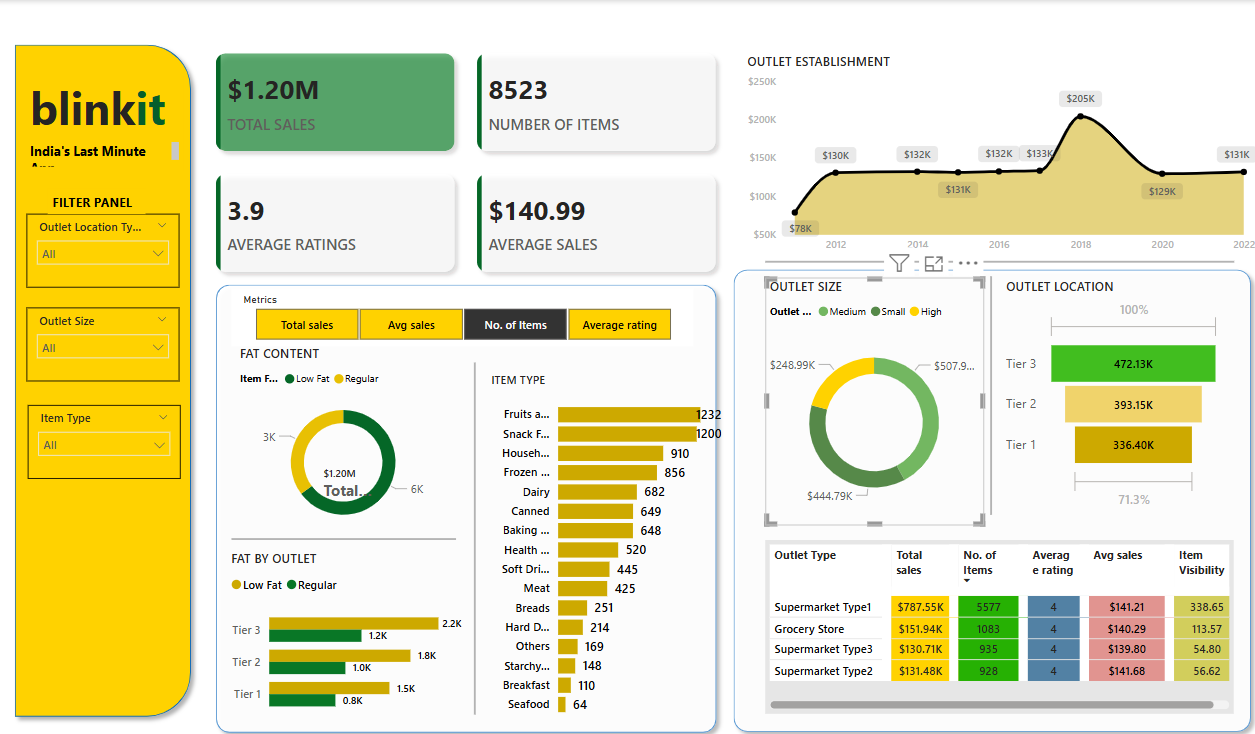

Layout of this report page (visuals, bound fields, positions):
{"tool":"powerbi","page":{"name":"Page 1","canvas":[1400,800],"ordinal":0},"visuals":[{"type":"shape","box":[56.8,38.6,206.8,738.6],"z":0},{"type":"textbox","box":[76.5,78,169.6,87.1],"z":1000},{"type":"textbox","box":[76.5,147.1,169.6,36],"z":2000},{"type":"actionButton","box":[0,0,100,40],"z":3000},{"type":"cardVisual","fields":{"Data":["BlinkIT Grocery Data.Total sales","BlinkIT Grocery Data.No. of Items","BlinkIT Grocery Data.Average rating","BlinkIT Grocery Data.Avg sales"]},"box":[264.7,39.7,570.6,269.1],"z":4000},{"type":"shape","box":[272.1,295.6,554.4,498.5],"z":5000},{"type":"donutChart","title":"FAT CONTENT","fields":{"Y":["BlinkIT Grocery Data.No. of Items"],"Category":["BlinkIT Grocery Data.Item Fat Content"]},"box":[302.3,370.5,231.8,206.8],"z":6000},{"type":"slicer","fields":{"Values":["Metrics.Metrics"]},"box":[297.7,309.1,495.5,61.4],"z":7000},{"type":"cardVisual","fields":{"Data":["BlinkIT Grocery Data.Total sales"]},"box":[379.5,484.1,106.8,61.4],"z":8000},{"type":"clusteredBarChart","title":"FAT BY OUTLET","fields":{"Y":["BlinkIT Grocery Data.No. of Items"],"Category":["BlinkIT Grocery Data.Outlet Location Type"],"Series":["BlinkIT Grocery Data.Item Fat Content"]},"box":[292.6,589.7,257.4,188.2],"z":9000},{"type":"shape","box":[870.6,251.5,502.9,57.4],"z":10000},{"type":"shape","box":[533.8,388.2,50,377.9],"z":11000},{"type":"barChart","title":"ITEM TYPE","fields":{"Y":["BlinkIT Grocery Data.No. of Items"],"Category":["BlinkIT Grocery Data.Item Type"]},"box":[570.6,400,257.4,377.9],"z":12000},{"type":"lineChart","title":"OUTLET ESTABLISHMENT","fields":{"Y":["BlinkIT Grocery Data.Total sales"],"Category":["BlinkIT Grocery Data.Outlet Establishment Year"]},"box":[845.5,56.8,554.5,222.7],"z":13000},{"type":"shape","box":[827.3,279.5,572.7,513.6],"z":14000},{"type":"shape","box":[297.1,522.1,241.2,113.2],"z":15000},{"type":"donutChart","title":"OUTLET SIZE","fields":{"Y":["BlinkIT Grocery Data.Total sales"],"Category":["BlinkIT Grocery Data.Outlet Size"]},"box":[870.6,297.1,233.8,266.2],"z":16000},{"type":"shape","box":[1033.8,295.6,157.4,255.9],"z":17000},{"type":"funnel","title":"OUTLET LOCATION","fields":{"Y":["Sum(BlinkIT Grocery Data.Sales)"],"Category":["BlinkIT Grocery Data.Outlet Location Type"]},"box":[1123.5,297.1,239.7,254.4],"z":18000},{"type":"pivotTable","fields":{"Rows":["BlinkIT Grocery Data.Outlet Type"],"Values":["BlinkIT Grocery Data.Total sales","BlinkIT Grocery Data.No. of Items","BlinkIT Grocery Data.Average rating","BlinkIT Grocery Data.Avg sales","Sum(BlinkIT Grocery Data.Item Visibility)"]},"box":[870.5,579.5,502.3,186.4],"z":19000},{"type":"slicer","fields":{"Values":["BlinkIT Grocery Data.Outlet Location Type"]},"box":[77.3,229.5,163.6,79.5],"z":19001},{"type":"slicer","fields":{"Values":["BlinkIT Grocery Data.Outlet Size"]},"box":[77.3,329.5,163.6,79.5],"z":19002},{"type":"slicer","fields":{"Values":["BlinkIT Grocery Data.Item Type"]},"box":[79.5,434.1,163.6,79.5],"z":19003},{"type":"textbox","box":[100,202.3,104.5,27.3],"z":19004}]}

Visuals, with their boxes in screenshot pixels (x1, y1, x2, y2), scaled from the page's 1400x800 canvas onto the 1255x734 screenshot:
shape: rect(51, 35, 236, 713)
textbox: rect(69, 72, 221, 151)
textbox: rect(69, 135, 221, 168)
actionButton: rect(0, 0, 90, 37)
cardVisual - BlinkIT Grocery Data.Total sales x BlinkIT Grocery Data.No. of Items: rect(237, 36, 749, 283)
shape: rect(244, 271, 741, 729)
"FAT CONTENT" donutChart: rect(271, 340, 479, 530)
slicer - Metrics.Metrics: rect(267, 284, 711, 340)
cardVisual - BlinkIT Grocery Data.Total sales: rect(340, 444, 436, 500)
"FAT BY OUTLET" clusteredBarChart: rect(262, 541, 493, 714)
shape: rect(780, 231, 1231, 283)
shape: rect(479, 356, 523, 703)
"ITEM TYPE" barChart: rect(512, 367, 742, 714)
"OUTLET ESTABLISHMENT" lineChart: rect(758, 52, 1254, 256)
shape: rect(742, 256, 1254, 728)
shape: rect(266, 479, 483, 583)
"OUTLET SIZE" donutChart: rect(780, 273, 990, 517)
shape: rect(927, 271, 1068, 506)
"OUTLET LOCATION" funnel: rect(1007, 273, 1222, 506)
pivotTable - BlinkIT Grocery Data.Outlet Type x BlinkIT Grocery Data.Total sales: rect(780, 532, 1231, 703)
slicer - BlinkIT Grocery Data.Outlet Location Type: rect(69, 211, 216, 284)
slicer - BlinkIT Grocery Data.Outlet Size: rect(69, 302, 216, 375)
slicer - BlinkIT Grocery Data.Item Type: rect(71, 398, 218, 471)
textbox: rect(90, 186, 183, 211)
